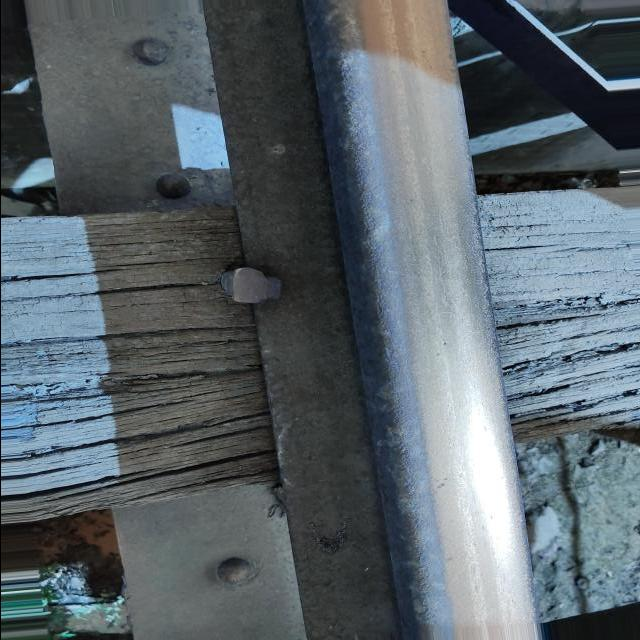broken_rail_medium: (431, 476, 449, 491)
squats_high: (432, 342, 449, 360)
